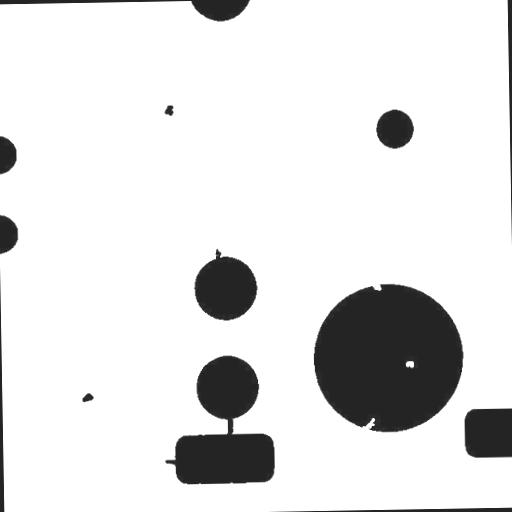copper: (158, 99, 179, 122), (76, 387, 99, 408)
mousebite: (354, 410, 382, 436), (366, 278, 387, 296)
pin-hole: (400, 355, 420, 374)
short: (220, 410, 240, 445)
spur: (208, 241, 228, 268), (158, 452, 184, 472)
